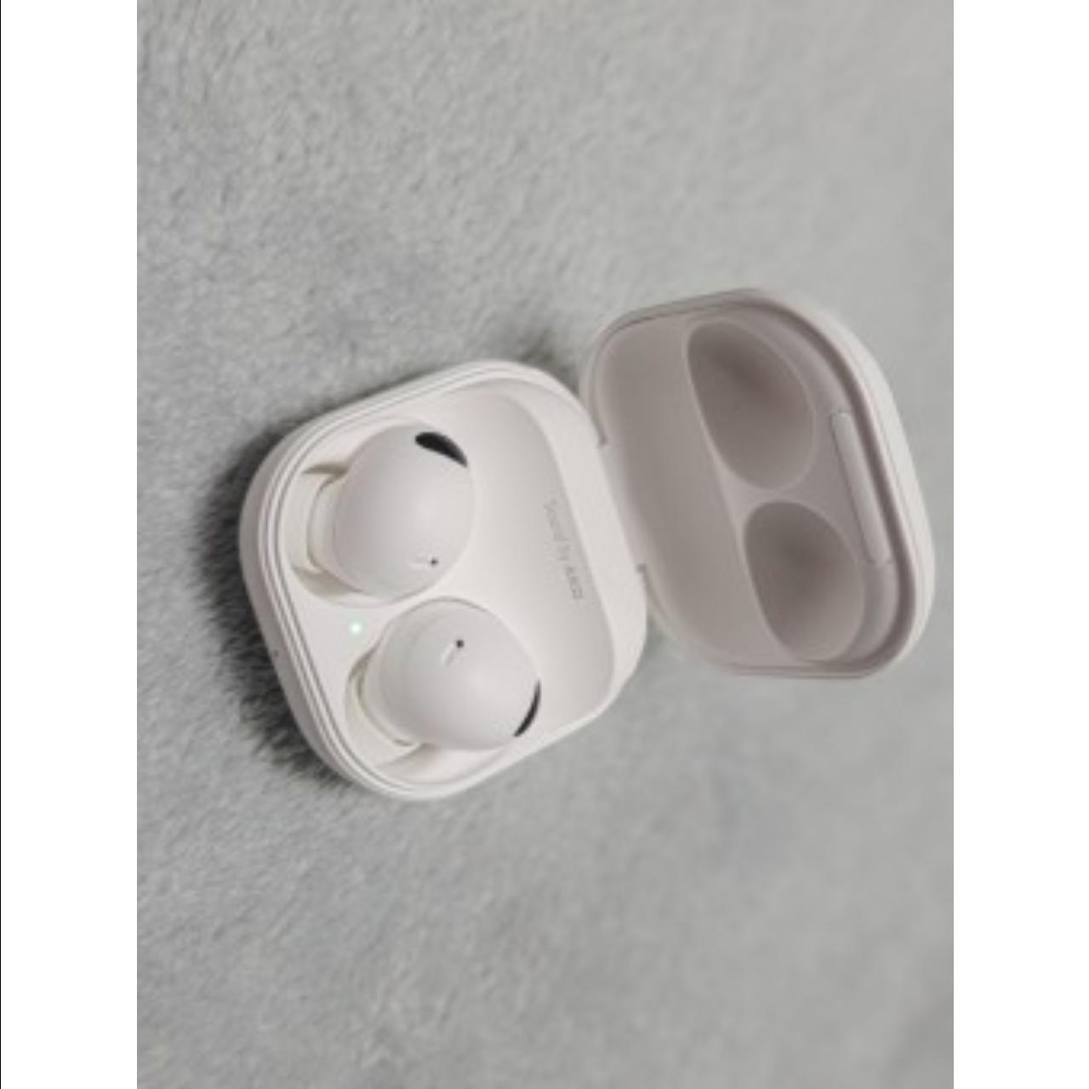Buds: (230, 281, 942, 807)
Buds_Units: (273, 418, 479, 605), (331, 600, 547, 773)
